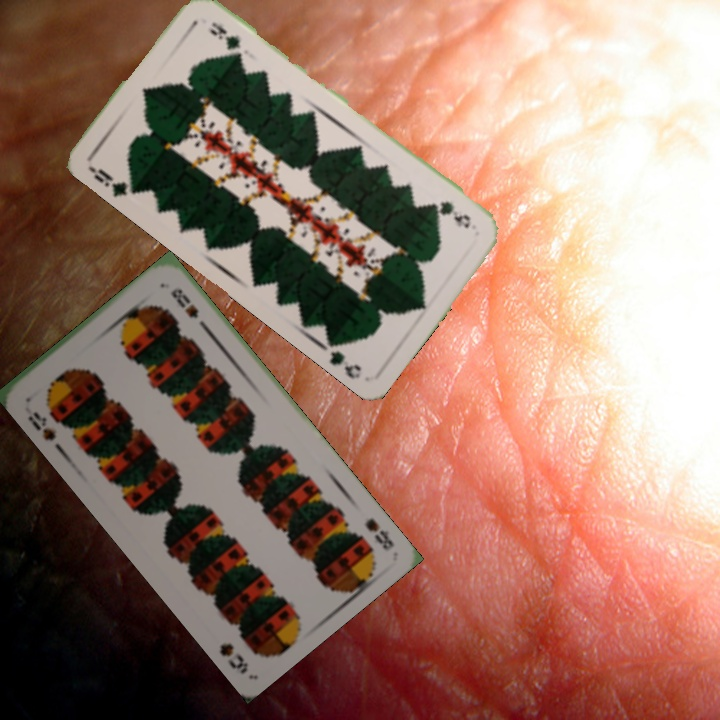G9: (85, 162, 144, 199), (428, 197, 474, 232)
S8: (360, 514, 397, 553), (23, 407, 59, 444)
